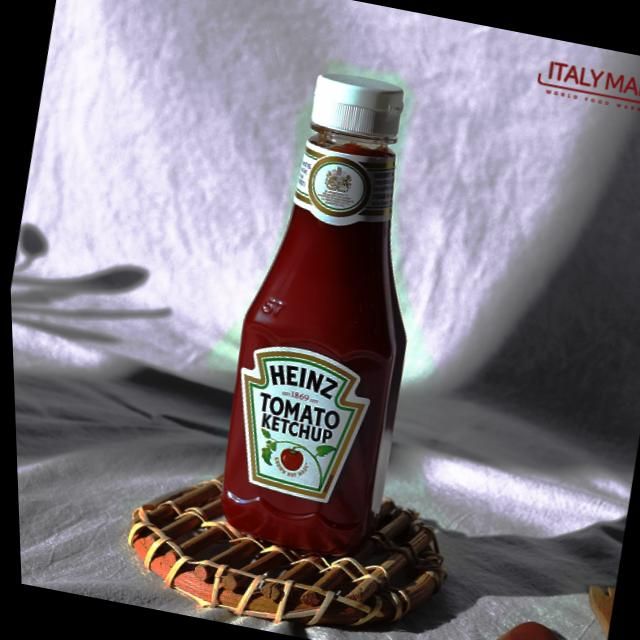ketchup: (193, 54, 478, 570)
